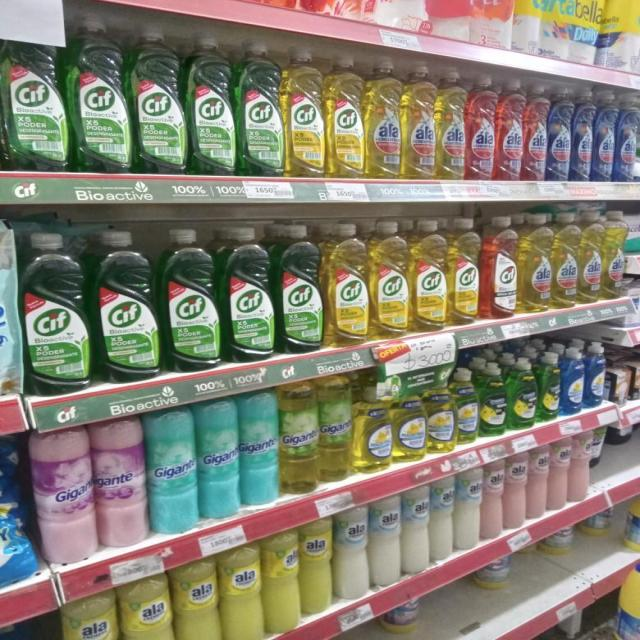ala_conc_amarillo: (365, 54, 401, 180), (402, 60, 436, 180), (436, 64, 466, 180), (520, 212, 552, 314), (553, 211, 578, 309), (580, 209, 602, 305), (603, 210, 626, 301)
ala_conc_azul: (548, 84, 572, 182), (572, 86, 594, 182), (616, 93, 639, 183), (594, 89, 615, 182)
ala_conc_rojo: (467, 73, 495, 181), (496, 76, 524, 182), (524, 80, 548, 182)
ala_crem_amarillo: (220, 544, 262, 640), (264, 530, 300, 634), (175, 557, 219, 640), (122, 575, 173, 640), (300, 517, 332, 616), (63, 591, 119, 640)
ala_crem_blanco: (334, 506, 369, 602), (370, 494, 400, 588), (402, 485, 430, 576), (455, 465, 481, 551), (431, 473, 454, 564)
ala_crem_rosado: (34, 424, 95, 565), (482, 458, 504, 540), (504, 451, 526, 531), (529, 444, 548, 521)
cif_conc_bot_amarilla: (284, 45, 324, 178), (326, 221, 368, 347), (326, 52, 363, 180), (370, 220, 409, 339), (411, 218, 447, 333), (448, 217, 479, 326)
cif_conc_botella_roja: (482, 215, 517, 320)
cif_conc_botella_verde: (23, 229, 90, 395), (0, 16, 66, 172), (94, 230, 160, 382), (69, 14, 130, 174), (162, 227, 220, 372), (132, 23, 186, 175), (222, 225, 274, 362), (188, 31, 235, 177), (236, 38, 282, 177), (277, 223, 324, 354)
cif_conc_sachet_verde: (0, 221, 20, 397)
gigante: (97, 416, 146, 548), (148, 407, 198, 535), (200, 398, 240, 520), (280, 381, 318, 495), (241, 389, 278, 506)
magistral_con_amarillo: (354, 382, 392, 474), (394, 389, 426, 463), (426, 380, 454, 454), (456, 366, 478, 446)
magistral_con_azul: (562, 346, 584, 416), (586, 342, 607, 409)
